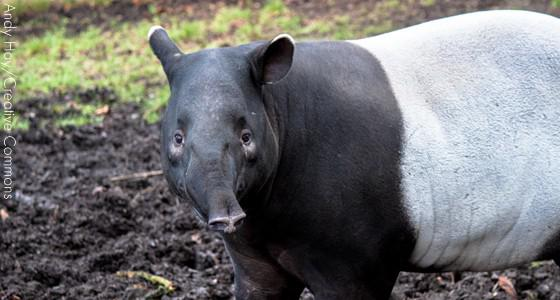Anta: (141, 8, 557, 292)
